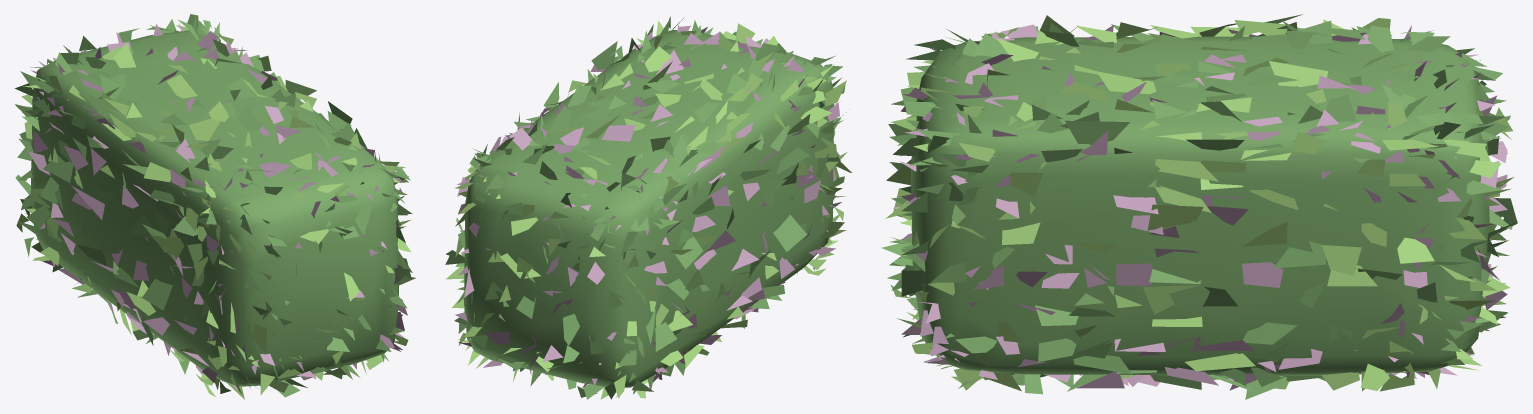
Rendered from Busch eckig (1).fbx.
The picture shows the model from 3 angles, left to right: view 1: azimuth 30°, elevation 25°; view 2: azimuth 150°, elevation 25°; view 3: azimuth 270°, elevation 25°; orthographic projection. The views are drawn at different scales.
Parts seen in each view (by area): view 1: Cube; view 2: Cube; view 3: Cube.
Boxes of the visible parts, x1,y1,x2,y2 form: Cube: (14, 14, 415, 399); Cube: (445, 16, 851, 399); Cube: (881, 14, 1517, 399).
Bounding box in the file's own units: 97.31 × 101 × 197.
